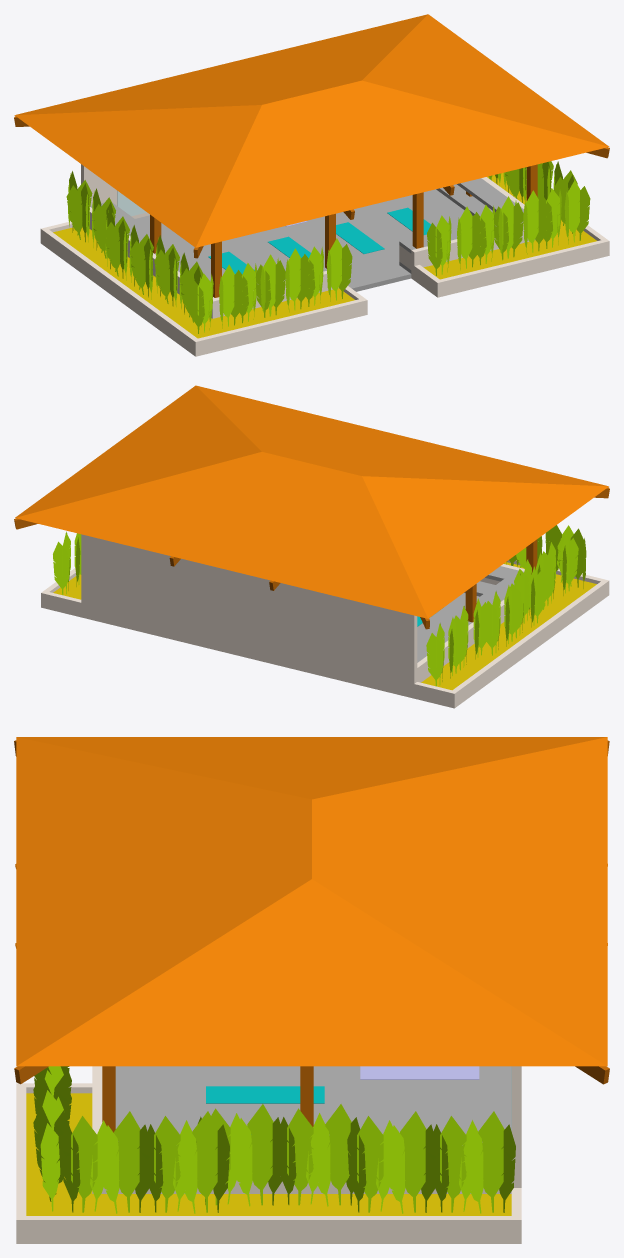
File: yoga_studio.glb
3 renders of one model, top to bottom at view 1: azimuth 30°, elevation 25°; view 2: azimuth 150°, elevation 25°; view 3: azimuth 270°, elevation 25°, orthographic. The views are drawn at different scales.
Visible parts, largest first — view 1: Object_2, Object_8, Object_6, Object_10, Object_7, Object_5, Object_9; view 2: Object_2, Object_6, Object_8, Object_7, Object_10, Object_5; view 3: Object_2, Object_8, Object_6, Object_10, Object_7, Object_5, Object_9, Object_4.
Boxes of the visible parts, x1,y1,x2,y2 form: Object_2: [14, 14, 609, 247]; Object_8: [66, 161, 590, 333]; Object_6: [40, 164, 609, 356]; Object_10: [90, 178, 523, 291]; Object_7: [53, 173, 596, 338]; Object_5: [14, 116, 609, 297]; Object_9: [208, 207, 430, 274]; Object_2: [15, 385, 608, 618]; Object_6: [41, 534, 609, 708]; Object_8: [53, 525, 586, 686]; Object_7: [53, 562, 596, 690]; Object_10: [417, 566, 523, 662]; Object_5: [14, 487, 609, 629]; Object_2: [16, 737, 607, 1066]; Object_8: [33, 1066, 515, 1213]; Object_6: [16, 1066, 521, 1243]; Object_10: [115, 1066, 510, 1145]; Object_7: [26, 1093, 511, 1215]; Object_5: [14, 740, 609, 1132]; Object_9: [206, 1086, 324, 1103]; Object_4: [360, 1066, 479, 1079].
Bounding box in the file's own units: 11.87 × 4.01 × 9.02.
